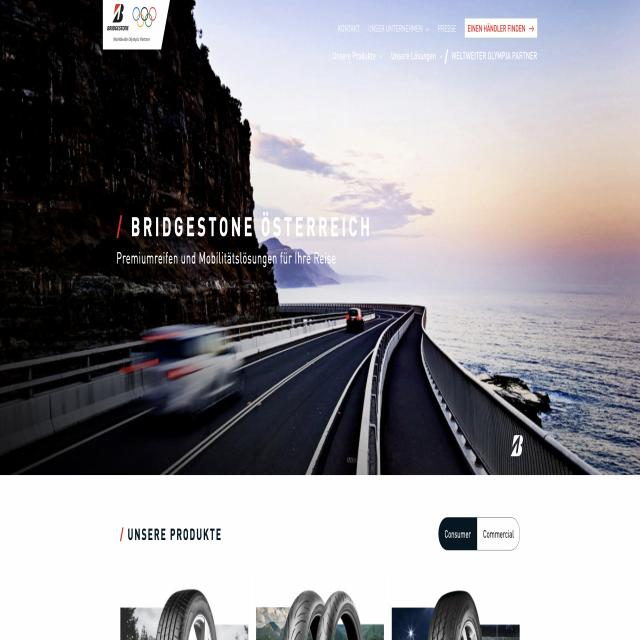Logo: (98, 0, 161, 47)
